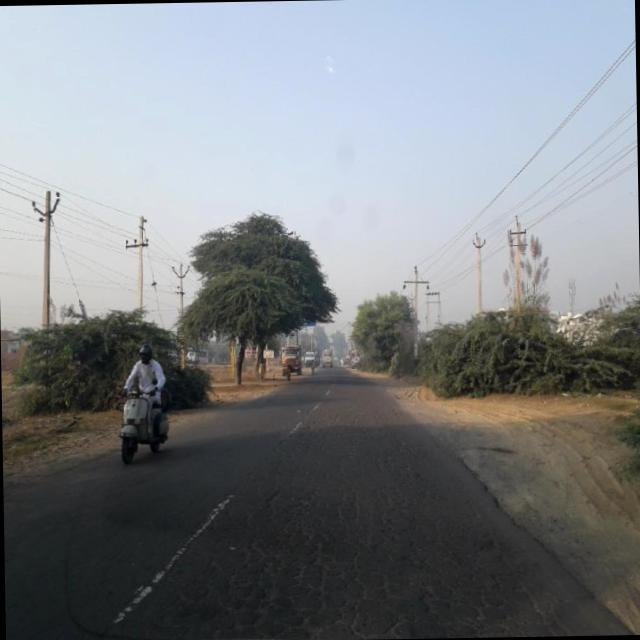crack: (85, 446, 570, 640)
